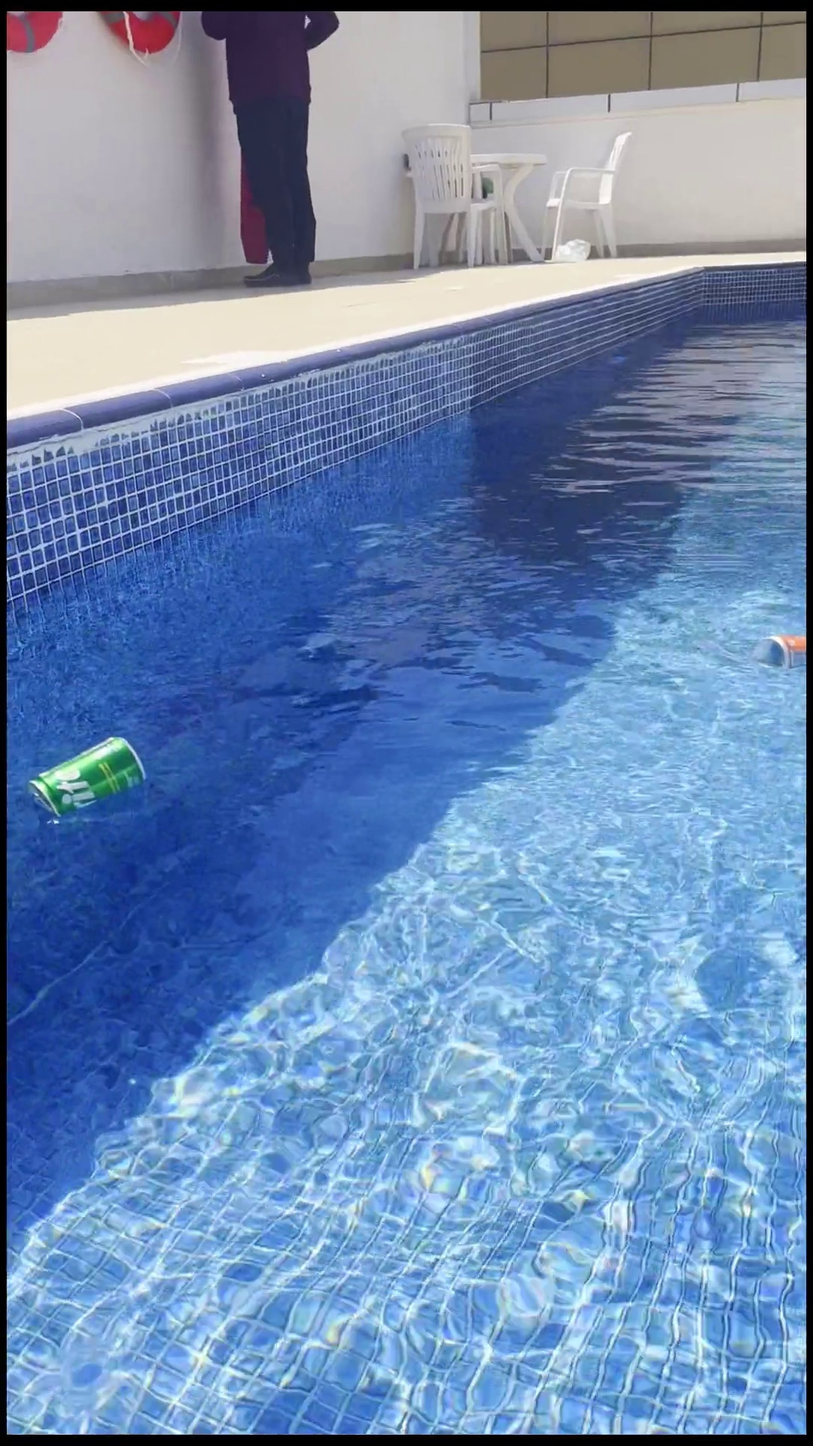debris: (23, 713, 150, 840), (761, 625, 802, 676)
